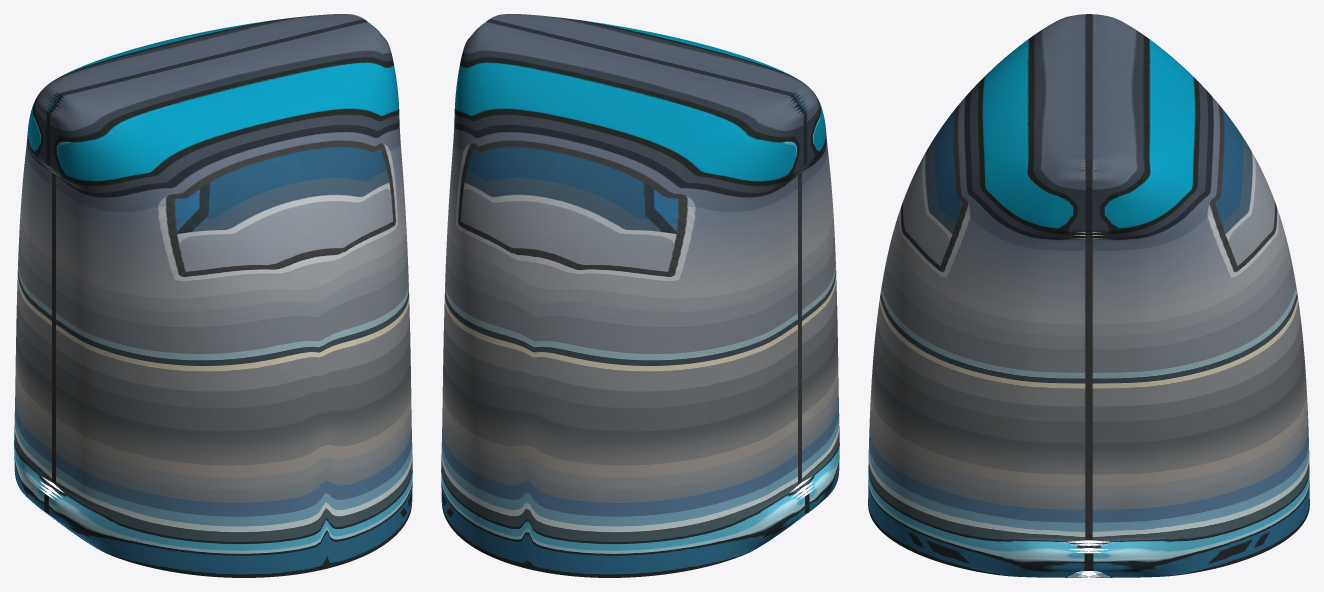
File: rear_bulkhead.glb
3 views of the same model, side by side, from view 1: azimuth 30°, elevation 25°; view 2: azimuth 150°, elevation 25°; view 3: azimuth 270°, elevation 25° (orthographic). The views are drawn at different scales.
Parts seen in each view (by area): view 1: rear_bulkhead; view 2: rear_bulkhead; view 3: rear_bulkhead.
Part boxes in pixels (x1,y1,x2,y2): rear_bulkhead: (14,14,412,577); rear_bulkhead: (441,14,839,577); rear_bulkhead: (868,14,1309,577).
Bounding box in the file's own units: 0.9865 × 1.21 × 1.16.
Materials: 1 (1 with a texture image).
